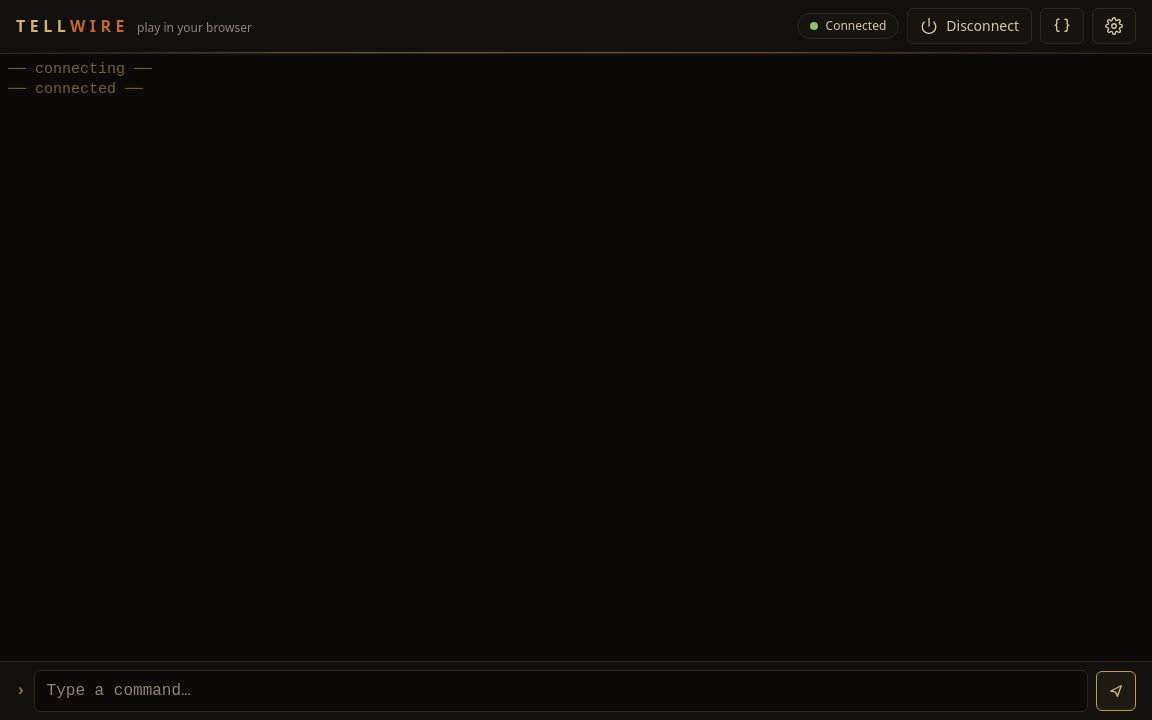
Test: connection states › Disconnect sends session.disconnect
Click the button "Disconnect" at coordinates (970, 26), box [907,8,1032,44]
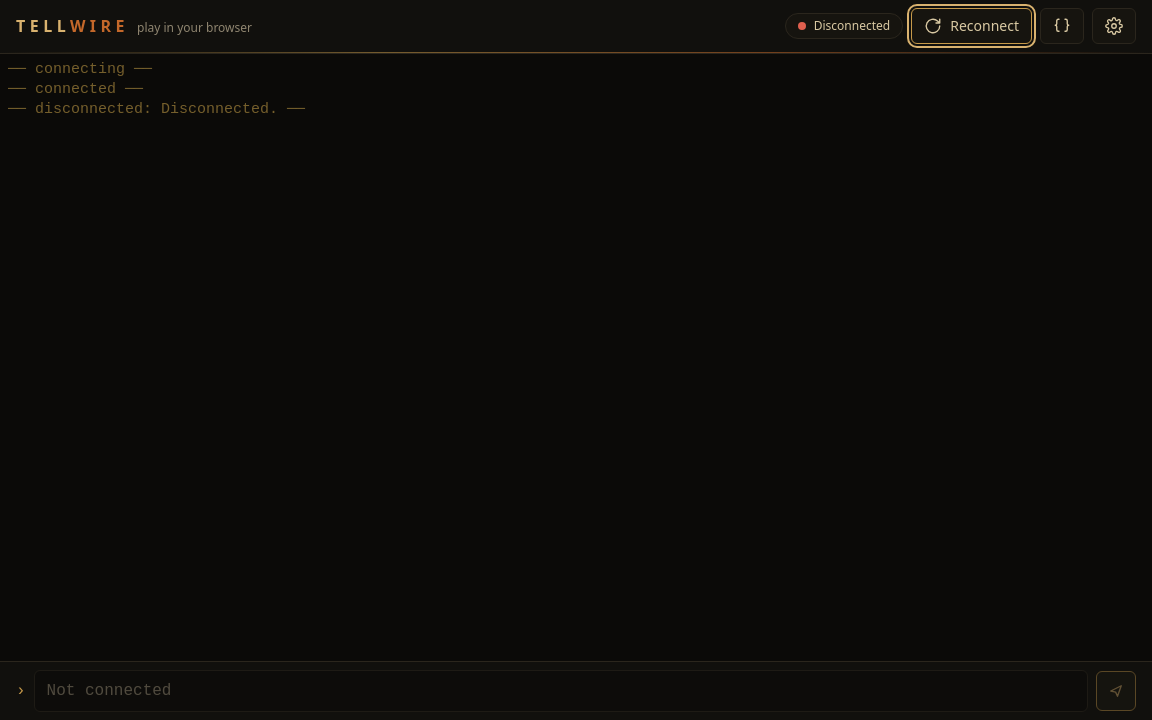
Now the message with test id "status" has attribute data-state="disconnected", box [785,13,903,39]
